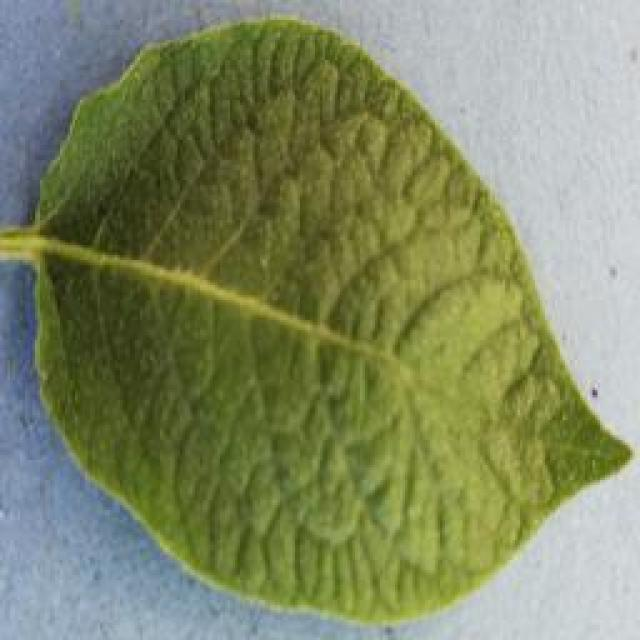Potato_Healthy: (10, 16, 627, 625)
